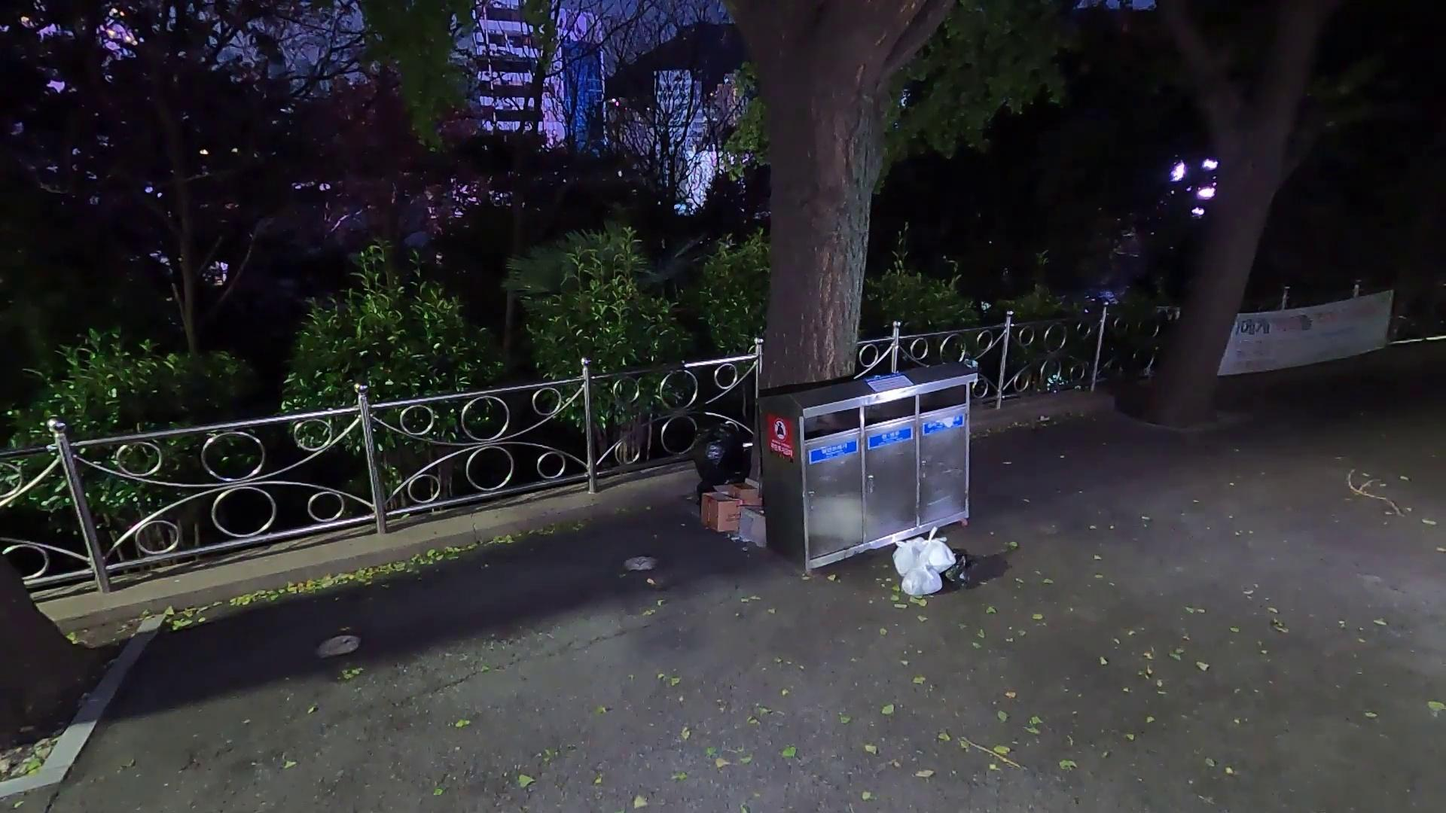trash: (685, 415, 754, 520), (694, 473, 756, 523), (697, 488, 764, 534), (896, 550, 944, 598), (889, 528, 930, 579), (916, 522, 956, 573), (937, 548, 977, 590), (733, 505, 766, 552), (725, 478, 763, 500)
